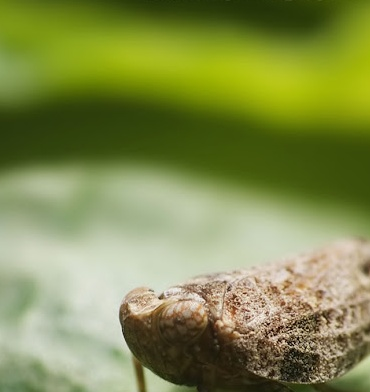Brown_hopper: (97, 216, 370, 392)
